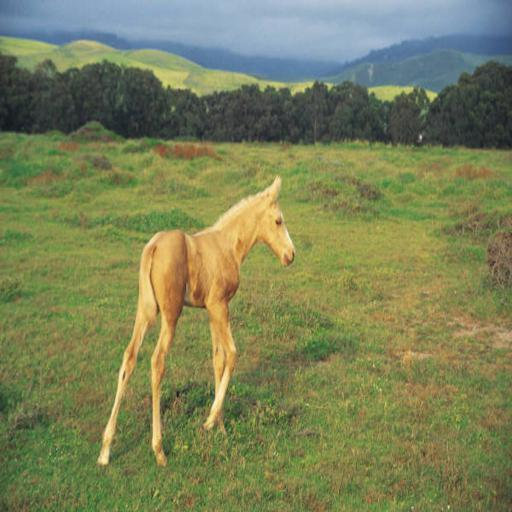horse: (96, 173, 297, 467)
